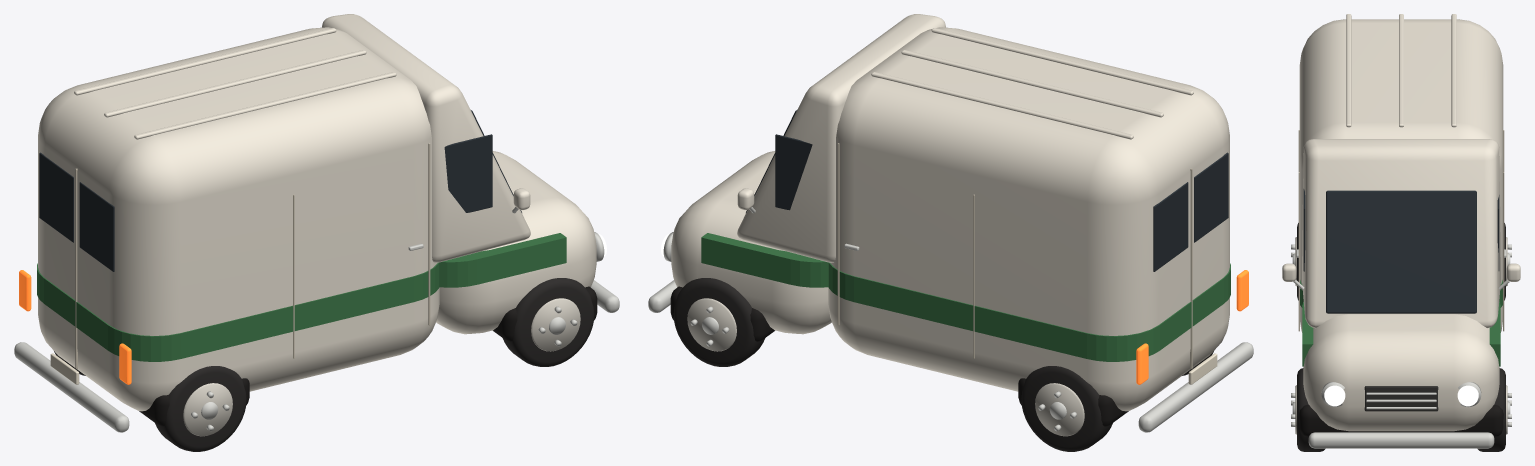
Rendered from van.glb.
The picture shows the model from 3 angles, left to right: view 1: azimuth 30°, elevation 25°; view 2: azimuth 150°, elevation 25°; view 3: azimuth 270°, elevation 25°; orthographic projection. The views are drawn at different scales.
Parts seen in each view (by area): view 1: Body, Cab, Stripe, Nose, NoseStripe, WheelFR, WheelBR, CabWindow-1, RearWindow-1, BumperRear, RearWindow1, WheelFRCap (+6 smaller); view 2: Body, Cab, Stripe, Nose, NoseStripe, WheelFL, WheelBL, RearWindow1, BumperRear, RearWindow-1, CabWindow1, WheelFLCap (+6 smaller); view 3: Body, Windscreen, Nose, Cab, BumperFront, WellFront, Grille, NoseStripe, RoofRib0, RoofRib2, WheelFL, WheelFR (+8 smaller).
Boxes of the visible parts, x1,y1,x2,y2 form: Body: (38,27,439,411); Cab: (322,14,530,262); Stripe: (37,262,439,361); Nose: (436,151,596,334); NoseStripe: (439,233,566,287); WheelFR: (502,278,594,366); WheelBR: (155,366,246,451); CabWindow-1: (444,134,492,212); RearWindow-1: (79,182,114,271); BumperRear: (14,342,129,432); RearWindow1: (39,152,73,242); WheelFRCap: (531,298,580,351); Body: (828,27,1229,411); Cab: (737,14,945,262); Stripe: (828,262,1230,361); Nose: (671,151,831,334); NoseStripe: (701,233,828,287); WheelFL: (673,278,765,366); WheelBL: (1021,366,1112,451); RearWindow1: (1153,182,1188,271); BumperRear: (1138,342,1253,432); RearWindow-1: (1194,152,1228,242); CabWindow1: (775,134,812,210); WheelFLCap: (687,298,736,351); Body: (1299,19,1503,332); Windscreen: (1326,190,1476,313); Nose: (1303,314,1499,431); Cab: (1302,139,1500,328); BumperFront: (1308,432,1494,448); WellFront: (1299,404,1503,437); Grille: (1364,386,1438,411); NoseStripe: (1302,302,1500,366); RoofRib0: (1346,14,1351,127); RoofRib2: (1451,14,1456,127); WheelFL: (1477,368,1505,451); WheelFR: (1297,368,1325,451).
Size of the model in its own units: 2.91 by 1.68 by 1.36.
